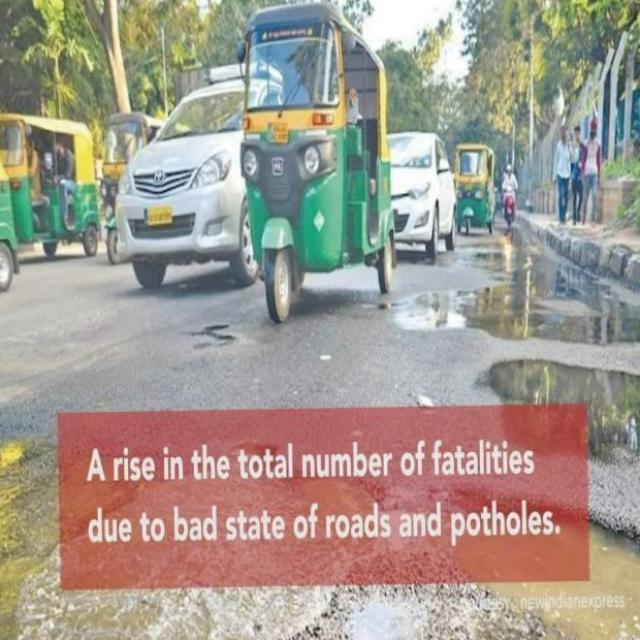Pathole: (436, 498, 640, 640), (493, 363, 640, 464), (188, 327, 237, 353)
